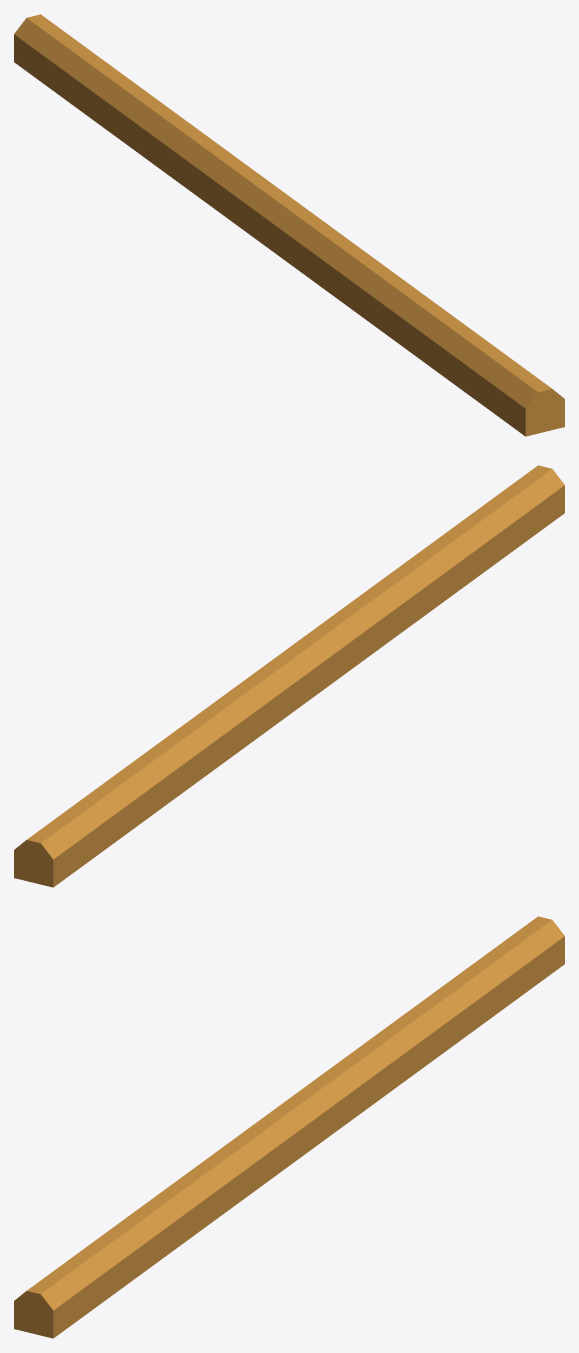
File: frets.dae
3 views of the same model, one above another, from view 1: azimuth 30°, elevation 25°; view 2: azimuth 150°, elevation 25°; view 3: azimuth 330°, elevation 25° (orthographic).
Visible parts, largest first — view 1: Base-Mesh; view 2: Base-Mesh; view 3: Base-Mesh.
Part boxes in pixels (x1,y1,x2,y2): Base-Mesh: [14, 14, 564, 436]; Base-Mesh: [14, 465, 564, 887]; Base-Mesh: [14, 916, 564, 1338].
Bounding box in the file's own units: 0.0025 × 0.0562 × 0.00251.
